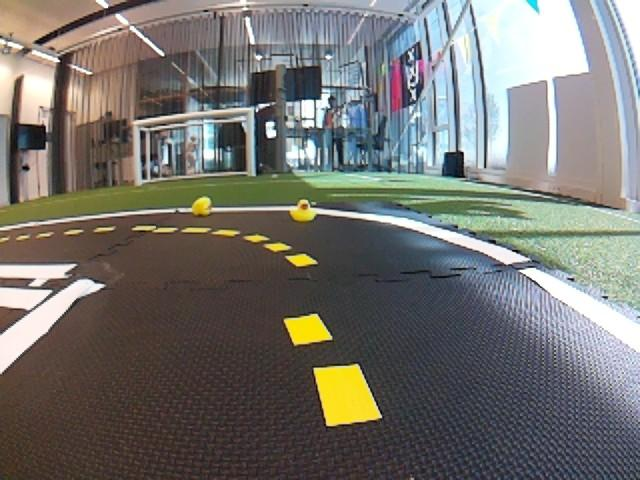Duckies: (289, 200, 315, 223), (192, 197, 212, 215)
